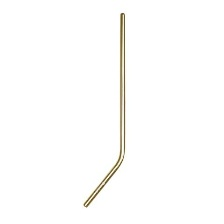drinking_straw: (78, 9, 132, 210)
